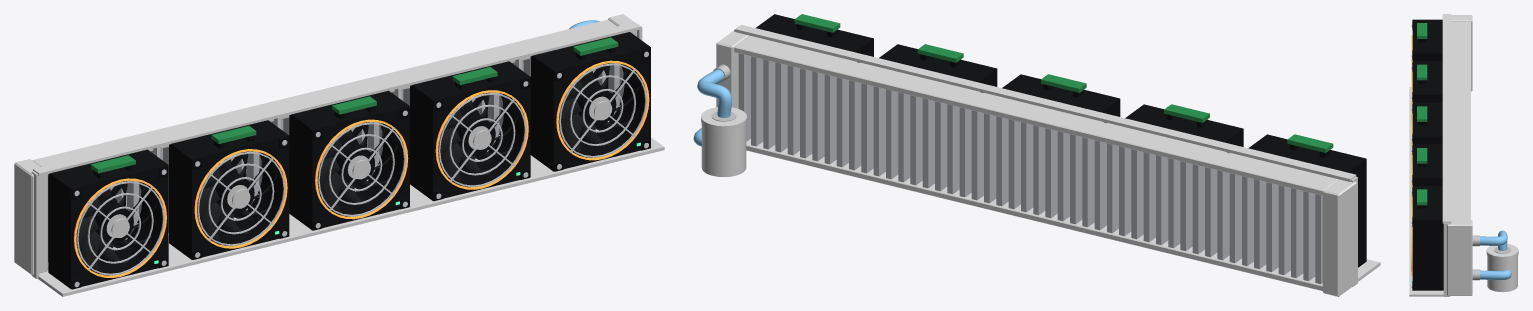
File: hwm_cool_cdu_inrack.glb
3 views of the same model, side by side, from view 1: azimuth 30°, elevation 25°; view 2: azimuth 150°, elevation 25°; view 3: azimuth 270°, elevation 25° (orthographic). The views are drawn at different scales.
Parts seen in each view (by area): view 1: Body, Rotor_Z_1, Rotor_Z_3, Rotor_Z_4, Rotor_Z_2, Rotor_Z_0; view 2: Body, Flow_0; view 3: Body, Flow_0, Flow_1.
Boxes of the visible parts, x1,y1,x2,y2 form: Body: (14, 14, 664, 296); Rotor_Z_1: (197, 151, 277, 240); Rotor_Z_3: (438, 92, 518, 181); Rotor_Z_4: (558, 63, 638, 151); Rotor_Z_2: (317, 122, 397, 210); Rotor_Z_0: (76, 181, 156, 269); Body: (701, 14, 1380, 296); Flow_0: (697, 69, 731, 117); Body: (1409, 14, 1518, 296); Flow_0: (1480, 230, 1507, 250); Flow_1: (1480, 270, 1511, 280).
Size of the model in its own units: 0.582 by 0.1033 by 0.1276.
